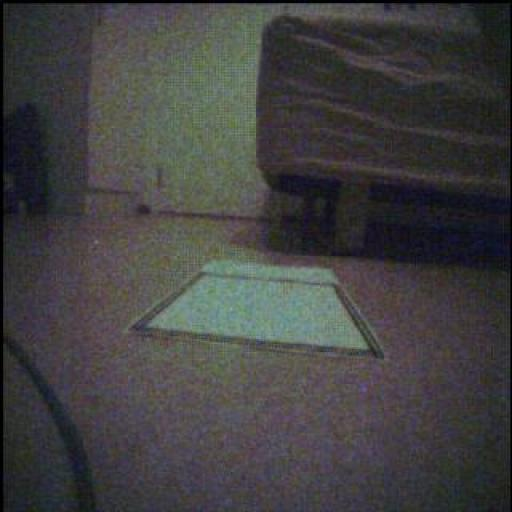pad: (133, 262, 384, 358)
